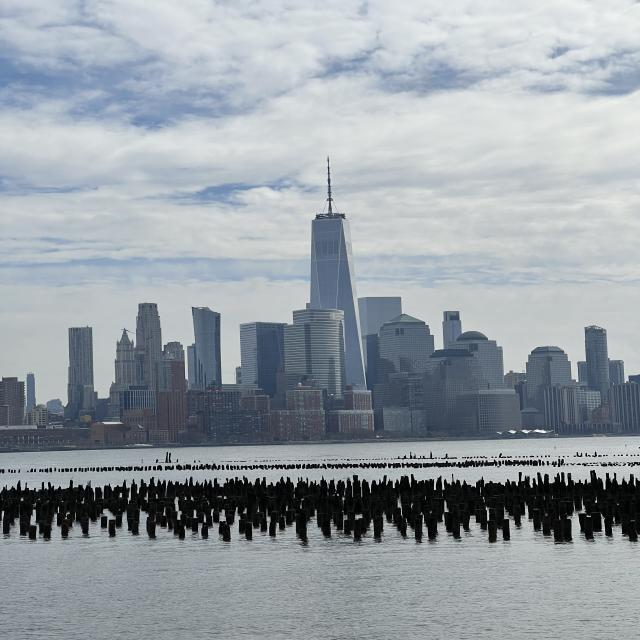WTC: (309, 157, 359, 310)
